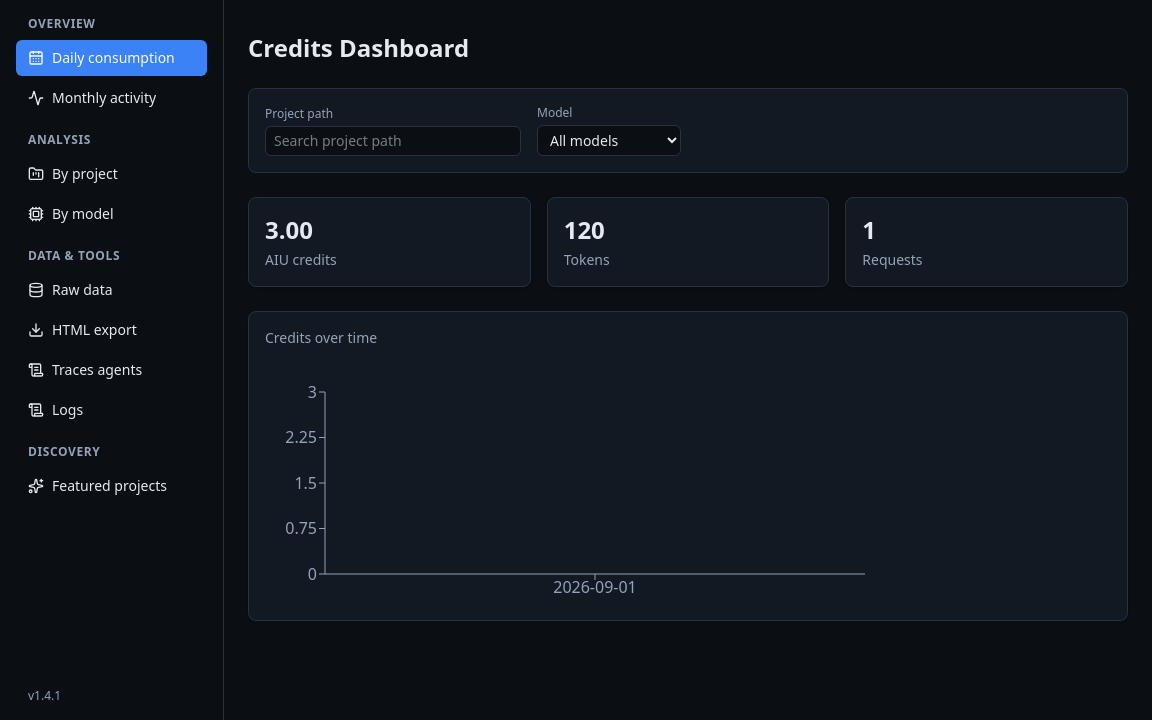
Scenario: App › opens the independent HTML export page from the sidebar
Check: the text "3.00" is shown, box left=265, top=214, right=313, bottom=246
Click the button "HTML export" at (112, 330), box left=16, top=312, right=207, bottom=348
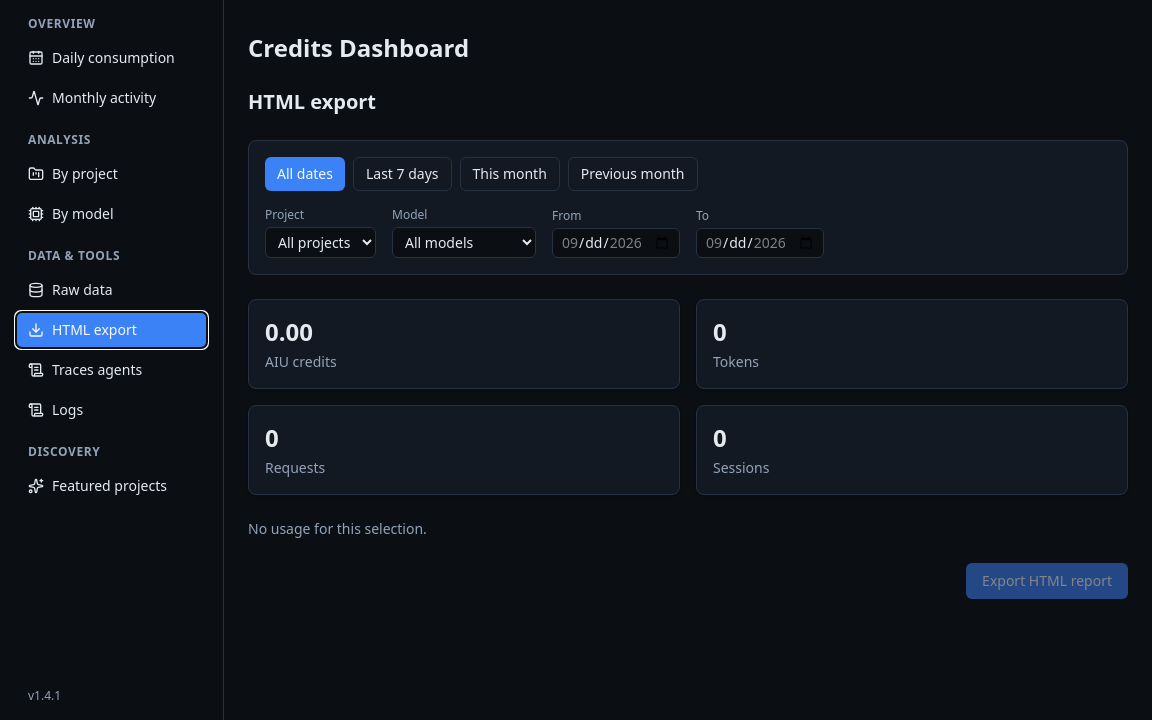
Check: the heading "HTML export" is shown, box left=248, top=88, right=376, bottom=115
Check: the label is gone
